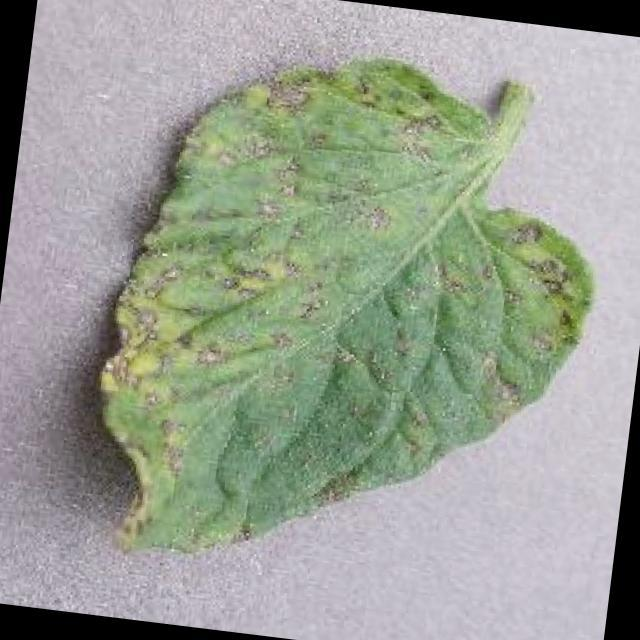Tomato Septoria spot leaf: (80, 30, 614, 612)
